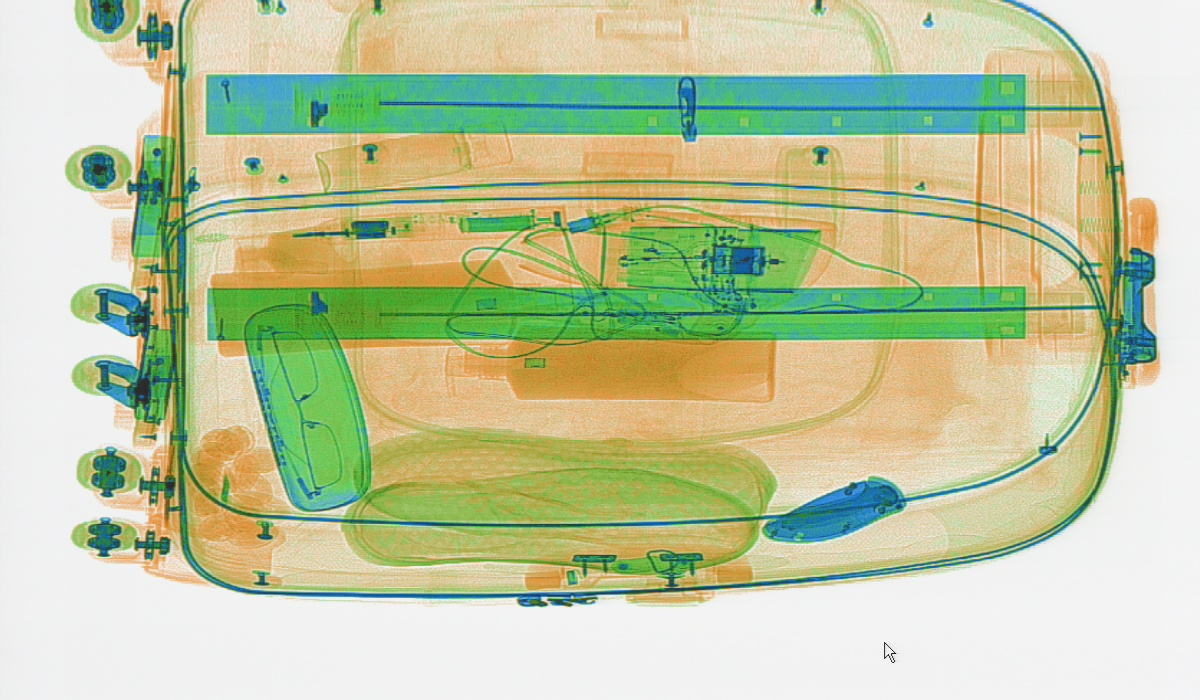knife: (758, 473, 905, 544)
pressure: (313, 114, 511, 193)
